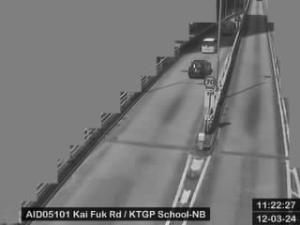vehicle: (188, 59, 210, 78), (200, 39, 214, 54), (220, 22, 234, 34)
